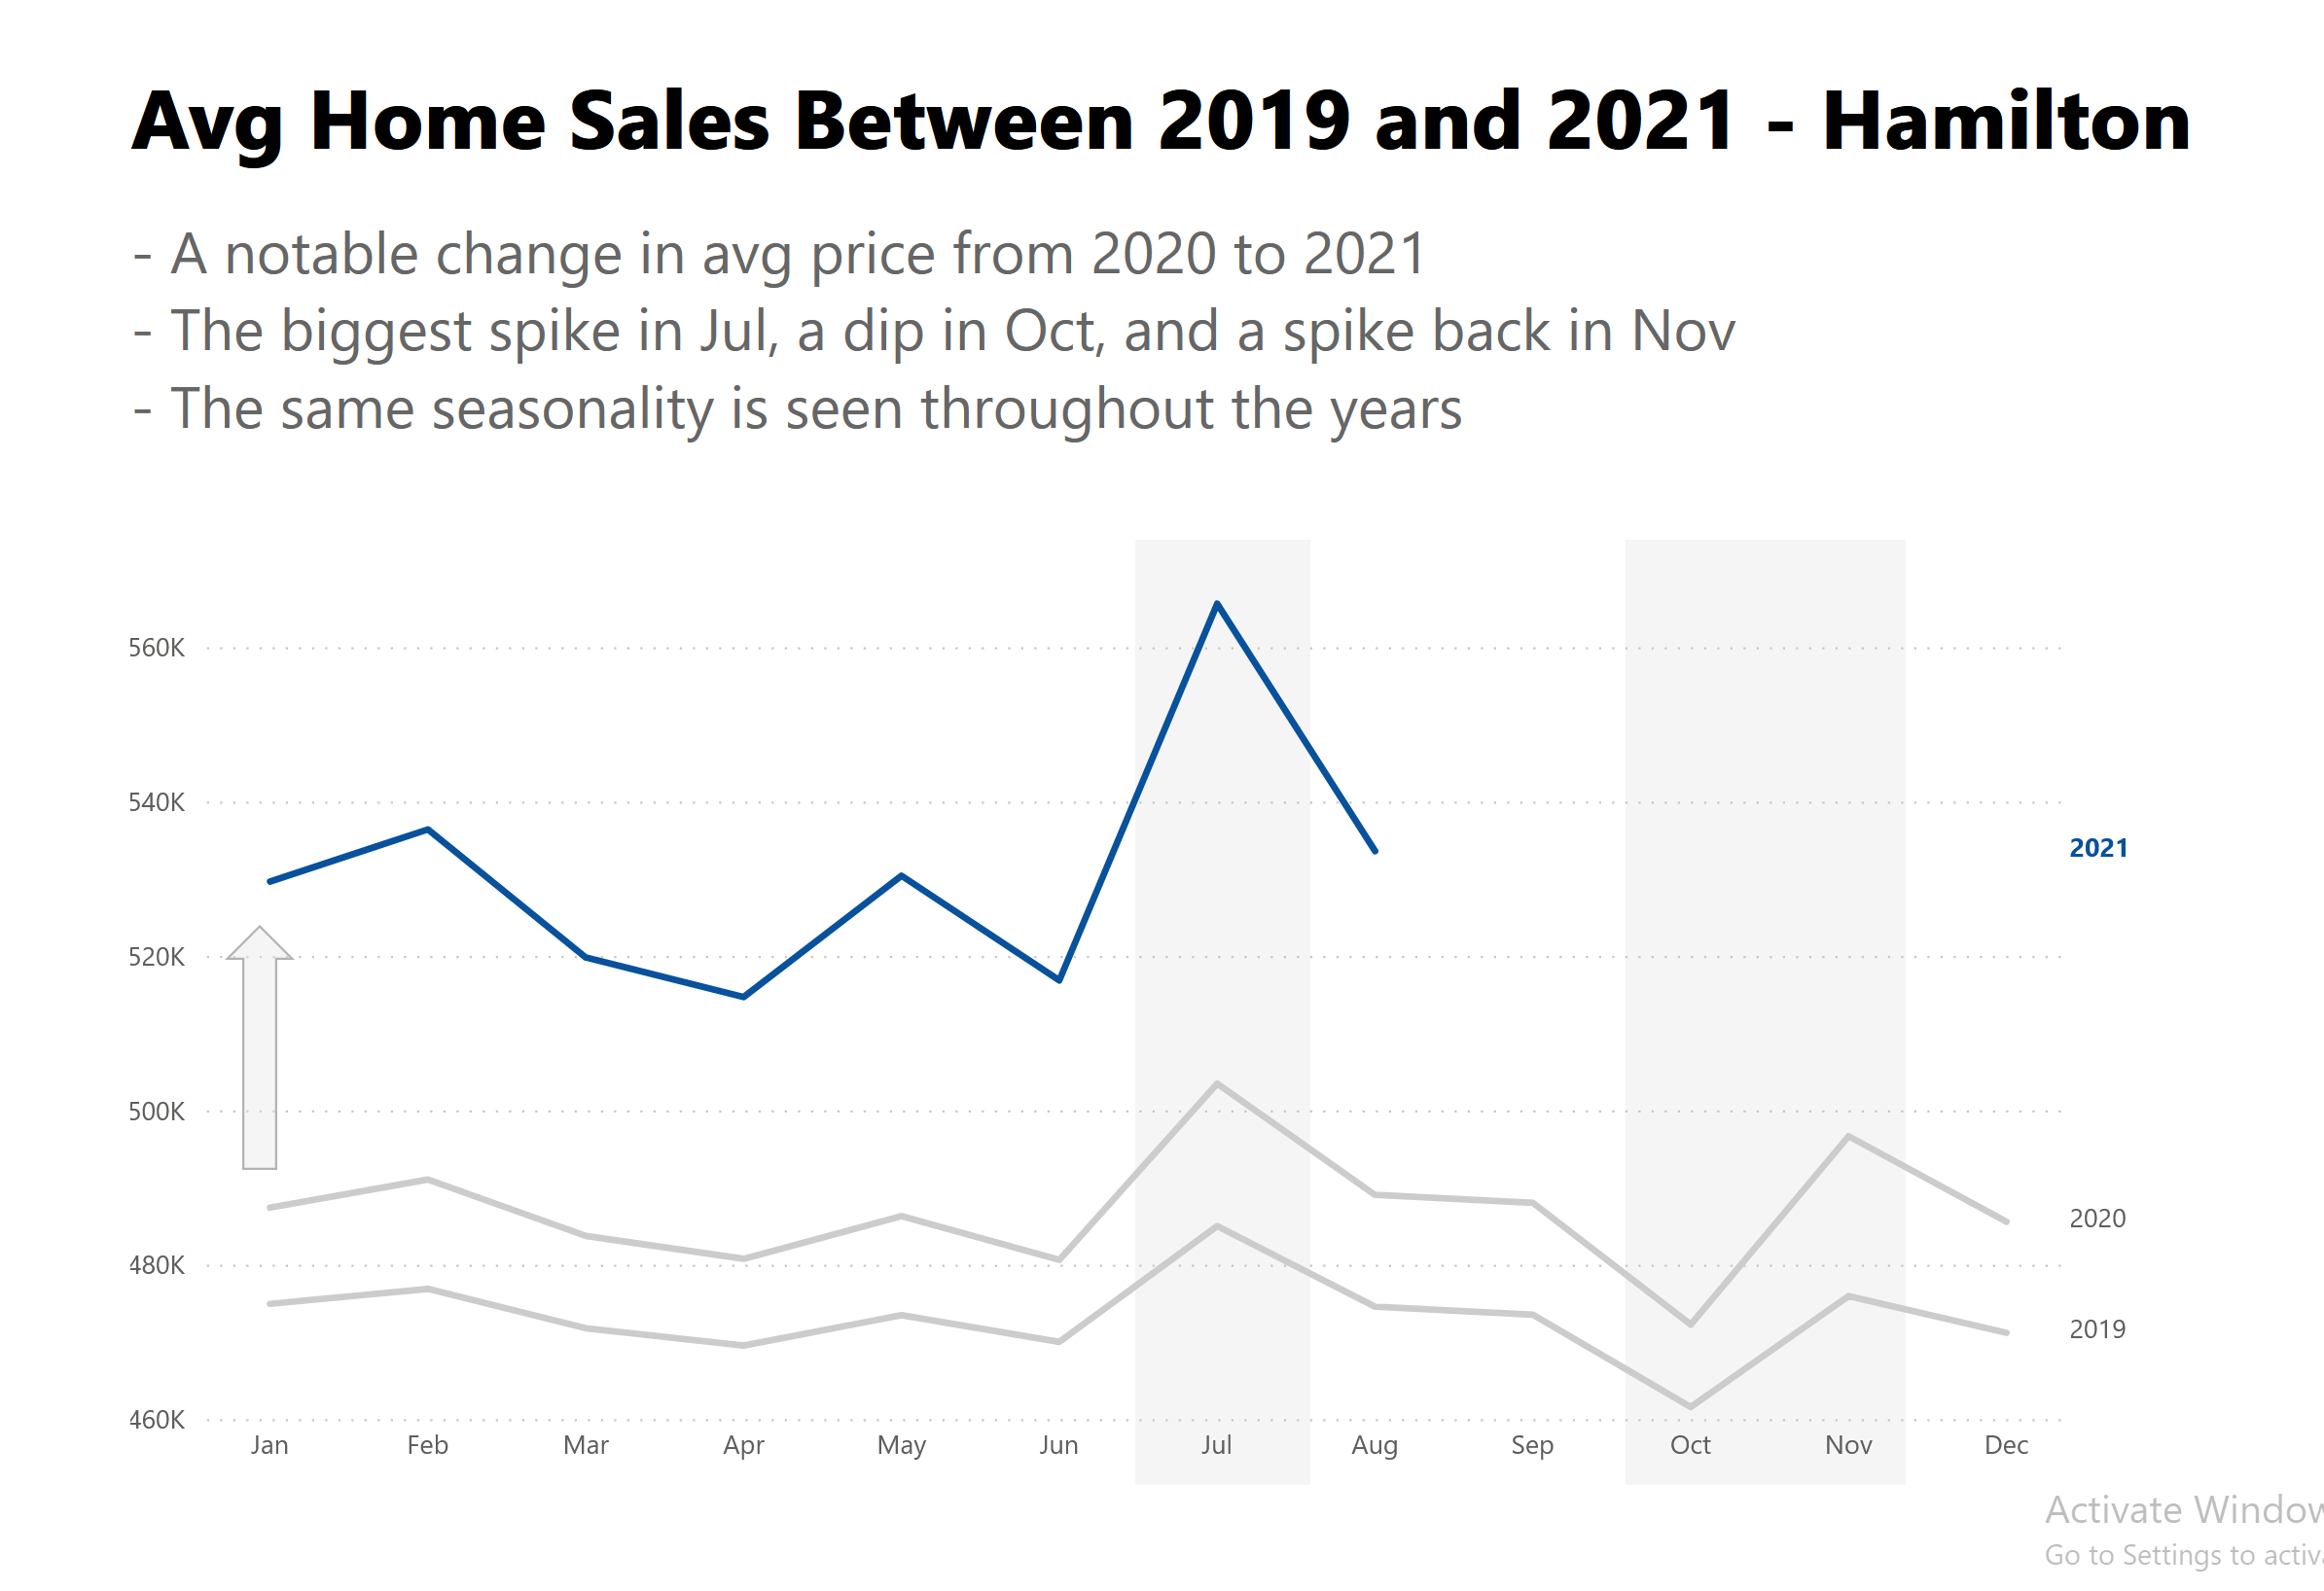

What the dashboard file says about the page in this screenshot:
{"tool":"powerbi","page":{"name":"Page 1","canvas":[1280,720],"ordinal":0},"visuals":[{"type":"shape","title":"shade 2","box":[832,256,128,432],"z":0},{"type":"shape","title":"shade 1","box":[608,256,80,432],"z":1000},{"type":"lineChart","fields":{"Category":["OCTOBER 2021 SWD CHALLENGE.Month"],"Y":["Sum(OCTOBER 2021 SWD CHALLENGE.Price)"],"Series":["OCTOBER 2021 SWD CHALLENGE.Year"]},"box":[144,256,928,432],"z":2000},{"type":"textbox","box":[144,32,992,224],"z":3000},{"type":"shape","box":[192,432,32,112],"z":4000}]}

Visuals, with their boxes on the page's 1280x720 design canvas (x1, y1, x2, y2). These are canvas units, not pixel positions in the 2324x1591 screenshot, which may show the page scaled, cropped or inside an application window:
"shade 2" shape: Rect(832, 256, 960, 688)
"shade 1" shape: Rect(608, 256, 688, 688)
lineChart - OCTOBER 2021 SWD CHALLENGE.Month x Sum(OCTOBER 2021 SWD CHALLENGE.Price): Rect(144, 256, 1072, 688)
textbox: Rect(144, 32, 1136, 256)
shape: Rect(192, 432, 224, 544)
